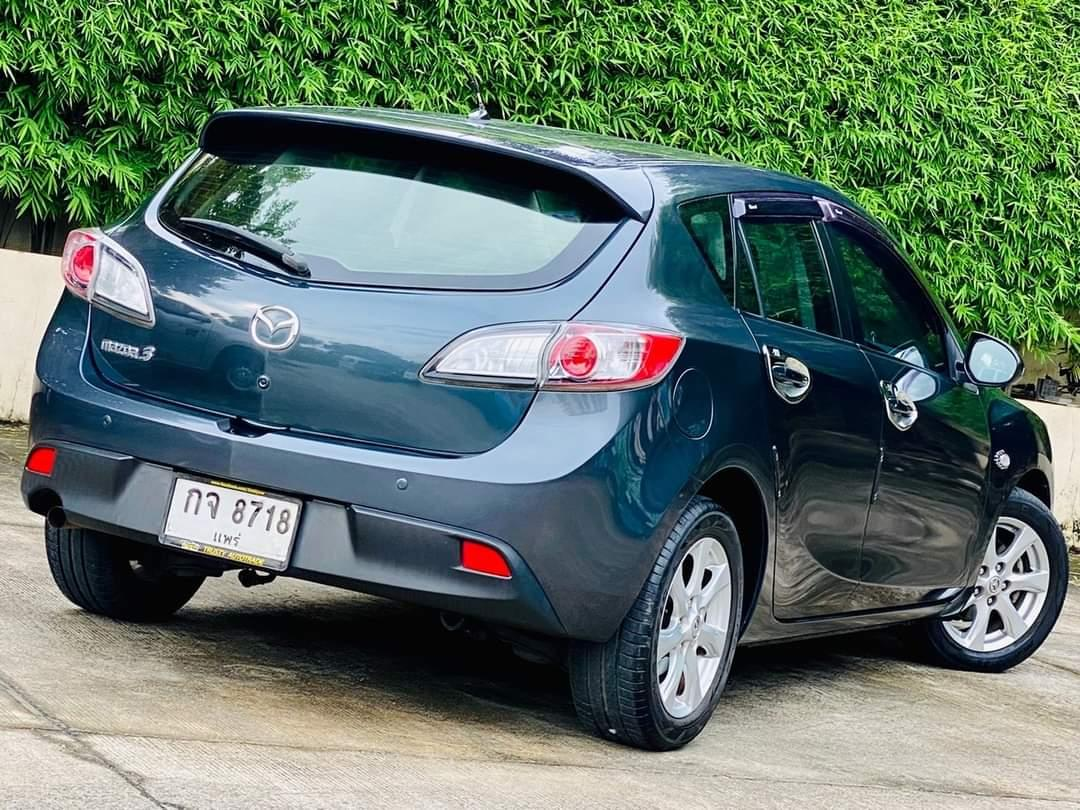license-plate: (154, 470, 308, 578)
